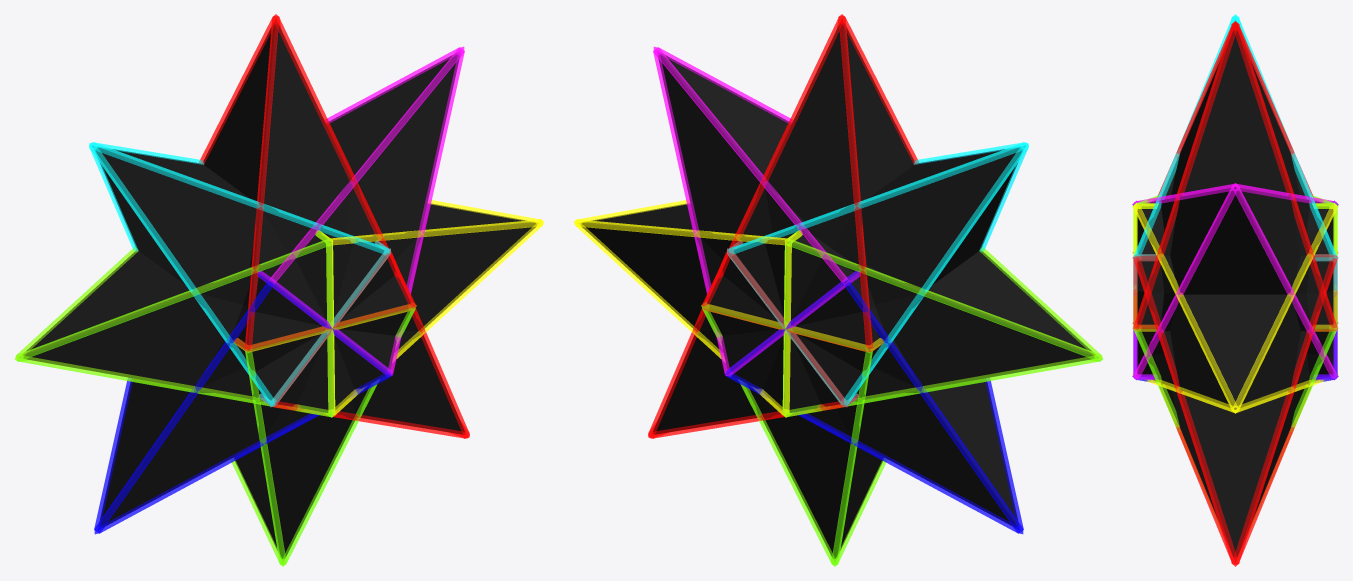
The model's file is ISIKLAR_ana_obje_STD.fbx.
The picture shows the model from 3 angles, left to right: view 1: azimuth 30°, elevation 25°; view 2: azimuth 150°, elevation 25°; view 3: azimuth 270°, elevation 25°; orthographic projection. The views are drawn at different scales.
Parts seen in each view (by area): view 1: Pyramid006; view 2: Pyramid006; view 3: Pyramid006.
Boxes of the visible parts, <box> form: Pyramid006: <box>14,14,544,566</box>; Pyramid006: <box>573,14,1103,566</box>; Pyramid006: <box>1132,14,1338,566</box>.
Size of the model in its own units: 2818 by 2818 by 984.
